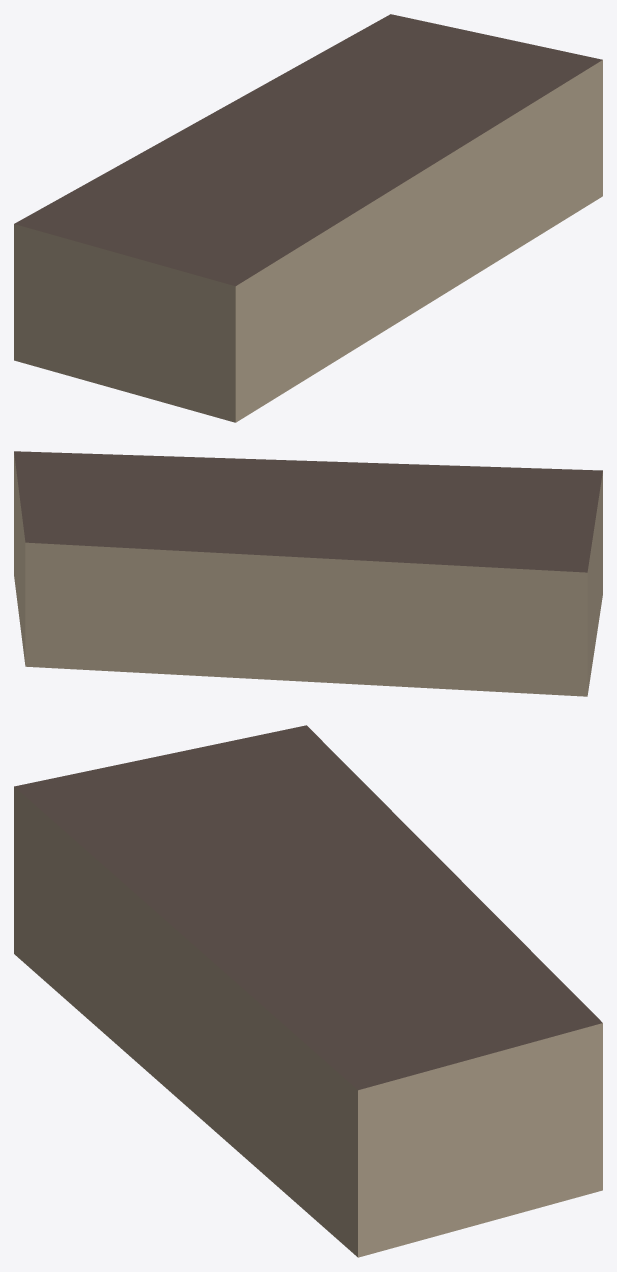
3 views of the same model, one above another, from view 1: azimuth 30°, elevation 25°; view 2: azimuth 150°, elevation 25°; view 3: azimuth 270°, elevation 25° (orthographic). The views are drawn at different scales.
Visible parts, largest first — view 1: HP-w1515076959; view 2: HP-w1515076959; view 3: HP-w1515076959.
Boxes of the visible parts, left/top/right/bottom form: HP-w1515076959: left=14, top=14, right=602, bottom=422; HP-w1515076959: left=14, top=451, right=602, bottom=696; HP-w1515076959: left=14, top=725, right=602, bottom=1257.
Bounding box in the file's own units: 42.08 × 9 × 28.69.
